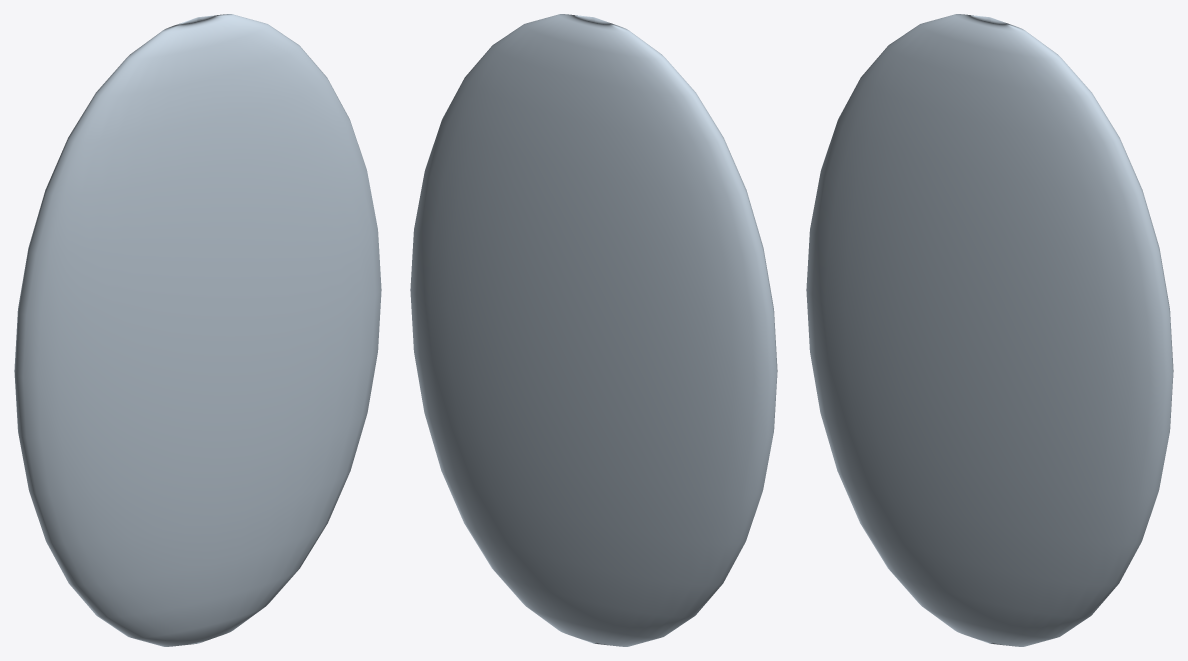
File: Mona_StellarisPhantasm_WithStateHandoff_AstralBubbleMembrane.fbx
The picture shows the model from 3 angles, left to right: view 1: azimuth 30°, elevation 25°; view 2: azimuth 150°, elevation 25°; view 3: azimuth 330°, elevation 25°; orthographic projection.
Visible parts, largest first — view 1: PART_TransparentAstralBubble; view 2: PART_TransparentAstralBubble; view 3: PART_TransparentAstralBubble.
Boxes of the visible parts, bbox=[...] form: PART_TransparentAstralBubble: bbox=[14, 14, 381, 646]; PART_TransparentAstralBubble: bbox=[410, 14, 777, 646]; PART_TransparentAstralBubble: bbox=[806, 14, 1173, 646].
Bounding box in the file's own units: 188 × 308 × 40.
